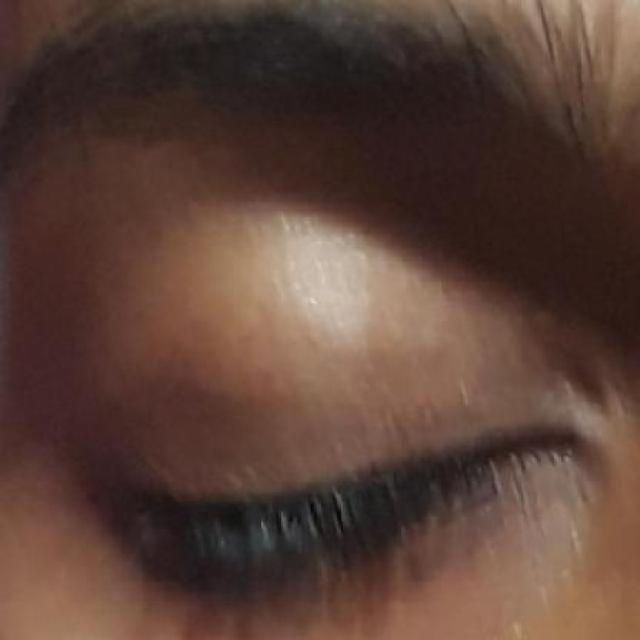drowsy: (80, 361, 578, 639)
